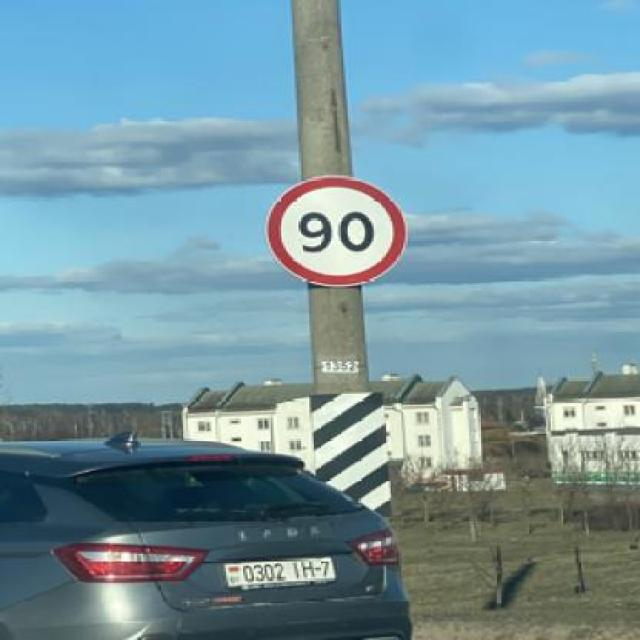speed limit 90: (265, 177, 407, 289)
